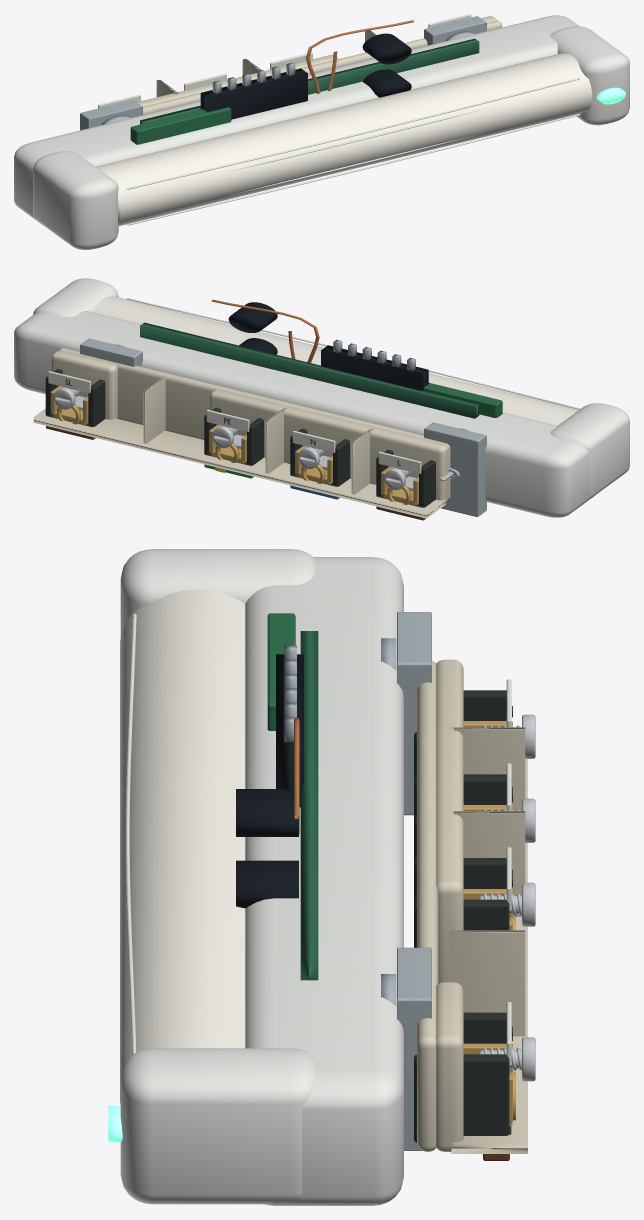
The model's file is emergency_emergency-batten.glb.
3 views of the same model, one above another, from view 1: azimuth 30°, elevation 25°; view 2: azimuth 150°, elevation 25°; view 3: azimuth 270°, elevation 25° (orthographic). The views are drawn at different scales.
Parts seen in each view (by area): view 1: part:cover, part:body · Original 7dbee62c, part:electronics.001 · Original 3ff2d46d, part:cover · Original 7dbee62c, part:terminals · Original 5a609f27, part:electronics.001, part:mounting · Original 2a8198d3, detail:lamp-internal-construction · Detail FR4 solder mask, part:electronics.001 · Original 2a8198d3, part:electronics.001 · Original db0da9ae, part:body.001; view 2: part:body · Original 7dbee62c, part:terminals · Original 5a609f27, part:cover, part:electronics.001, part:mounting · Original 2a8198d3, part:electronics.001 · Original 3ff2d46d, detail:terminal-clamp:SL · Detail moulded engineering polyme, detail:terminal-clamp:N · Detail moulded engineering polymer, detail:terminal-clamp:L · Detail moulded engineering polymer, detail:terminal-clamp:PE · Detail moulded engineering polyme, detail:lamp-internal-construction · Detail FR4 solder mask, part:cover · Original 7dbee62c (+14 smaller); view 3: part:body · Original 7dbee62c, part:cover, part:terminals · Original 5a609f27, part:mounting · Original 2a8198d3, part:electronics.001 · Original 3ff2d46d, part:electronics.001, detail:terminal-clamp:SL · Detail moulded engineering polyme, detail:terminal-clamp:PE · Detail moulded engineering polyme, part:cover · Original 7dbee62c, detail:lamp-internal-construction · Detail FR4 solder mask, detail:terminal-clamp:N · Detail moulded engineering polymer, detail:terminal-clamp:L · Detail moulded engineering polymer (+3 smaller).
Part boxes in pixels (x1,y1,x2,y2): part:cover: [96, 53, 592, 225]; part:body · Original 7dbee62c: [14, 15, 629, 249]; part:electronics.001 · Original 3ff2d46d: [200, 33, 411, 119]; part:cover · Original 7dbee62c: [126, 78, 580, 225]; part:terminals · Original 5a609f27: [137, 16, 502, 114]; part:electronics.001: [140, 38, 479, 124]; part:mounting · Original 2a8198d3: [80, 16, 486, 130]; detail:lamp-internal-construction · Detail FR4 solder mask: [130, 107, 231, 144]; part:electronics.001 · Original 2a8198d3: [212, 62, 295, 93]; part:electronics.001 · Original db0da9ae: [306, 20, 413, 93]; part:body.001: [596, 87, 625, 104]; part:body · Original 7dbee62c: [14, 278, 629, 517]; part:terminals · Original 5a609f27: [33, 348, 450, 518]; part:cover: [94, 296, 578, 425]; part:electronics.001: [140, 322, 479, 418]; part:mounting · Original 2a8198d3: [80, 338, 486, 516]; part:electronics.001 · Original 3ff2d46d: [228, 302, 428, 390]; detail:terminal-clamp:SL · Detail moulded engineering polyme: [45, 369, 105, 427]; detail:terminal-clamp:N · Detail moulded engineering polymer: [290, 428, 349, 486]; detail:terminal-clamp:L · Detail moulded engineering polymer: [376, 449, 435, 507]; detail:terminal-clamp:PE · Detail moulded engineering polyme: [204, 407, 263, 465]; detail:lamp-internal-construction · Detail FR4 solder mask: [423, 382, 502, 417]; part:cover · Original 7dbee62c: [126, 298, 580, 409]; part:body · Original 7dbee62c: [120, 549, 403, 1205]; part:cover: [120, 589, 245, 1104]; part:terminals · Original 5a609f27: [417, 659, 527, 1153]; part:mounting · Original 2a8198d3: [381, 612, 431, 1150]; part:electronics.001 · Original 3ff2d46d: [236, 654, 303, 908]; part:electronics.001: [300, 631, 318, 980]; detail:terminal-clamp:SL · Detail moulded engineering polyme: [414, 1012, 511, 1142]; detail:terminal-clamp:PE · Detail moulded engineering polyme: [414, 858, 509, 947]; part:cover · Original 7dbee62c: [125, 614, 136, 1054]; detail:lamp-internal-construction · Detail FR4 solder mask: [267, 613, 295, 730]; detail:terminal-clamp:N · Detail moulded engineering polymer: [414, 774, 506, 860]; detail:terminal-clamp:L · Detail moulded engineering polymer: [414, 690, 506, 776].
Size of the model in its own units: 1.52 by 0.3636 by 0.5029.
